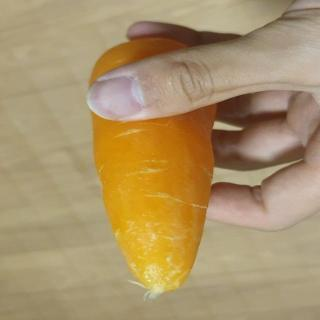carrot: (79, 33, 225, 300)
